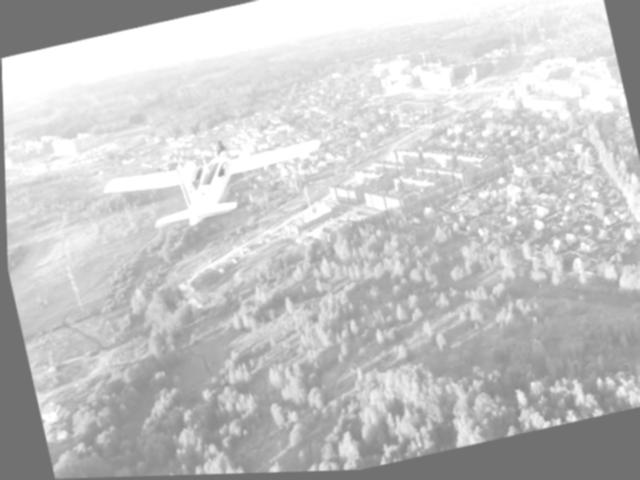hedef: (93, 115, 332, 254)
